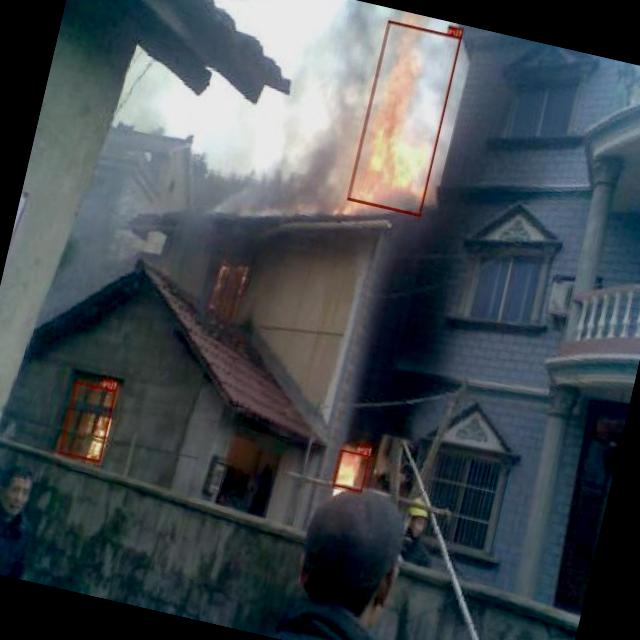fire: (347, 20, 462, 216), (59, 379, 117, 464), (332, 448, 371, 492)
